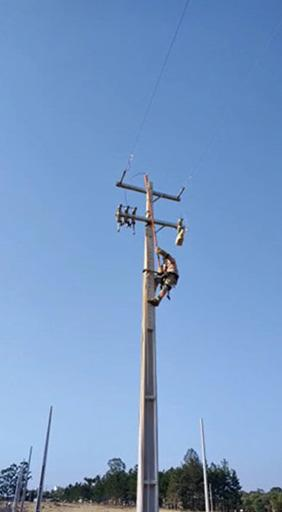Vara_Manobra: (146, 188, 162, 276)
